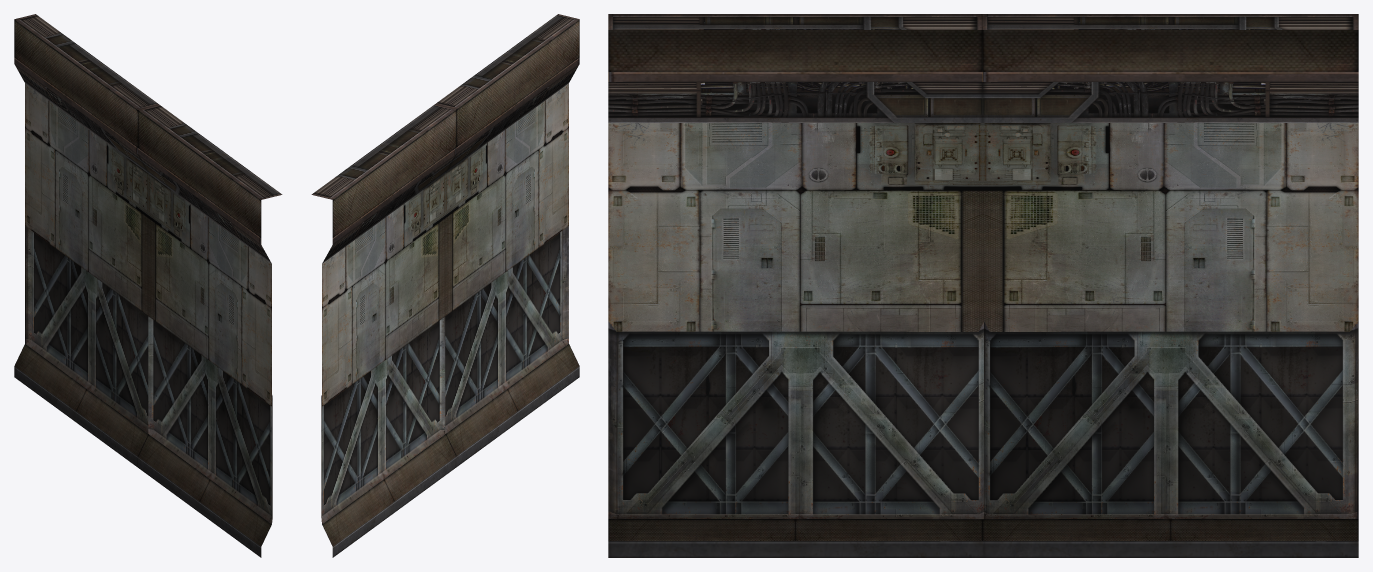
The model's file is ARC_Wall_Ware_01.FBX.
The picture shows the model from 3 angles, left to right: view 1: azimuth 30°, elevation 25°; view 2: azimuth 150°, elevation 25°; view 3: azimuth 270°, elevation 25°; orthographic projection. The views are drawn at different scales.
Visible parts, largest first — view 1: ARC_Wall_Ware_01; view 2: ARC_Wall_Ware_01; view 3: ARC_Wall_Ware_01.
Boxes of the visible parts, left/top/right/bottom form: ARC_Wall_Ware_01: left=14, top=14, right=282, bottom=557; ARC_Wall_Ware_01: left=311, top=14, right=579, bottom=557; ARC_Wall_Ware_01: left=608, top=14, right=1358, bottom=557.
Bounding box in the file's own units: 25 × 400 × 500.
1 material, 1 textured.
